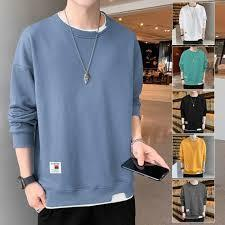sweater: (8, 15, 146, 210), (174, 3, 210, 43), (178, 136, 210, 175), (178, 182, 208, 222), (178, 92, 206, 132), (179, 47, 208, 85)
